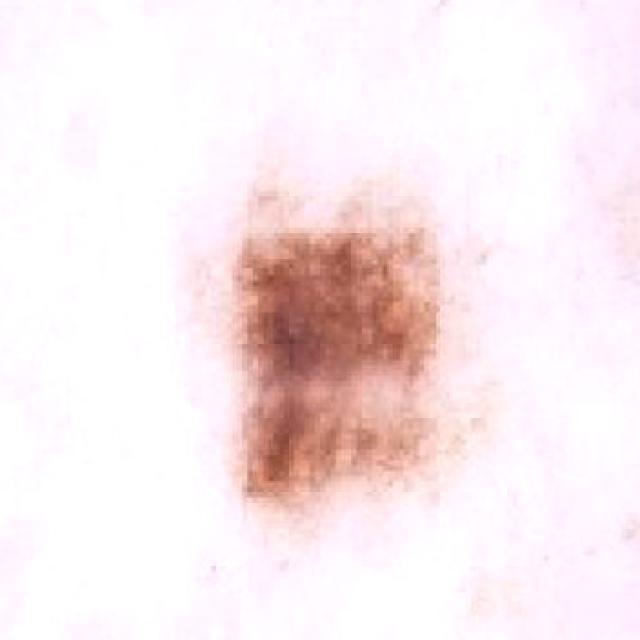BKL: (229, 165, 437, 566)
